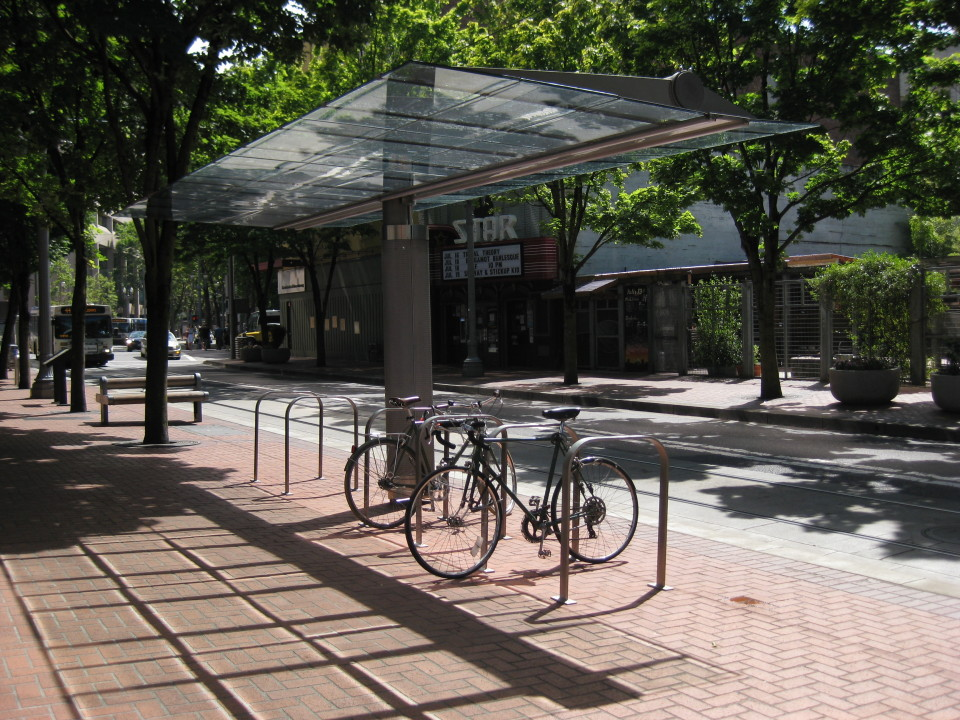bike: (406, 412, 668, 586)
